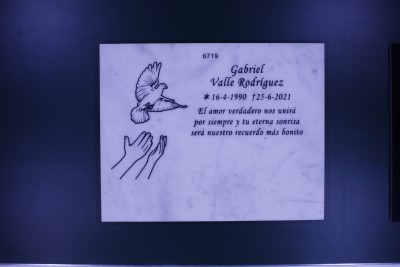lapidas: (99, 42, 324, 222)
